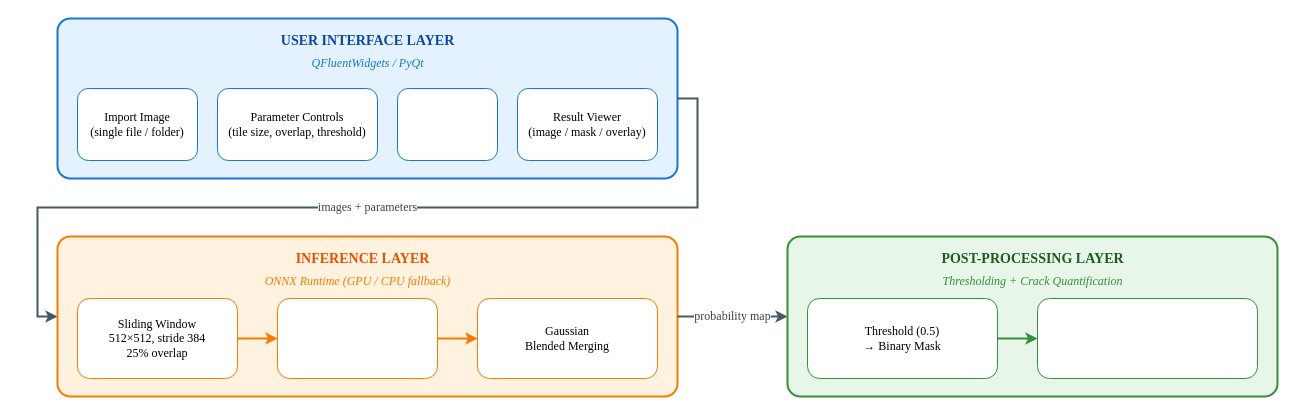
Some shapes in this 1295 by 414 pixel diagram are drawn without their labels. Each missing label, with the box of its shape:
Overlay + Crack Statistics (pixel count, length, area %): (1036, 298, 1258, 378)
Per-Tile ONNX Inference: (276, 298, 438, 378)
Progress Bar (tile-by-tile status): (396, 88, 498, 160)
